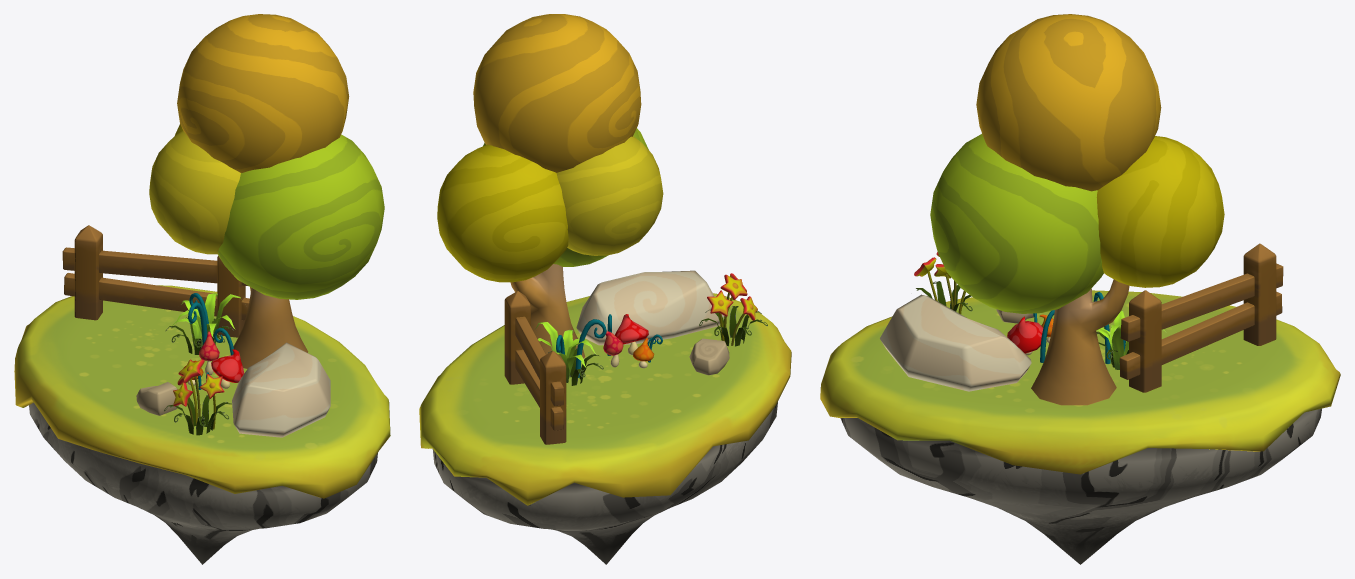
The model's file is cartoonDiorama.glb.
The picture shows the model from 3 angles, left to right: view 1: azimuth 30°, elevation 25°; view 2: azimuth 150°, elevation 25°; view 3: azimuth 270°, elevation 25°; orthographic projection. The views are drawn at different scales.
Parts seen in each view (by area): view 1: Object_5, Object_8, Object_6, Object_4, Object_18, Object_7, Object_10, Object_19, Object_14, Object_15, Object_11, Object_16 (+4 smaller); view 2: Object_5, Object_8, Object_9, Object_4, Object_7, Object_10, Object_18, Object_19, Object_14, Object_11, Object_15, Object_13 (+4 smaller); view 3: Object_5, Object_8, Object_4, Object_6, Object_9, Object_18, Object_10, Object_19, Object_12, Object_15.
Part boxes in pixels (x1,y1,x2,y2): Object_5: (14,285,390,498); Object_8: (177,14,349,172); Object_6: (218,134,384,299); Object_4: (29,402,377,564); Object_18: (62,225,249,337); Object_7: (149,131,240,254); Object_10: (232,342,330,437); Object_19: (233,287,308,368); Object_14: (164,317,233,435); Object_15: (171,293,240,346); Object_11: (136,382,178,415); Object_16: (173,359,204,428); Object_5: (419,293,791,505); Object_8: (473,14,641,172); Object_9: (437,144,568,282); Object_4: (432,402,777,564); Object_7: (556,136,663,255); Object_10: (576,270,723,345); Object_18: (504,291,566,444); Object_19: (510,264,585,358); Object_14: (548,306,767,385); Object_11: (689,338,729,375); Object_15: (535,322,595,382); Object_13: (556,314,662,377); Object_5: (820,290,1340,474); Object_8: (976,14,1161,191); Object_4: (840,408,1321,564); Object_6: (930,134,1103,313); Object_9: (1096,136,1224,287); Object_18: (1119,243,1283,392); Object_10: (880,294,1031,391); Object_19: (1031,279,1129,405); Object_12: (1007,316,1043,355); Object_15: (1096,310,1166,369).
Bounding box in the file's own units: 3.84 × 6.77 × 5.59.
Materials: 18 (18 with a texture image).
